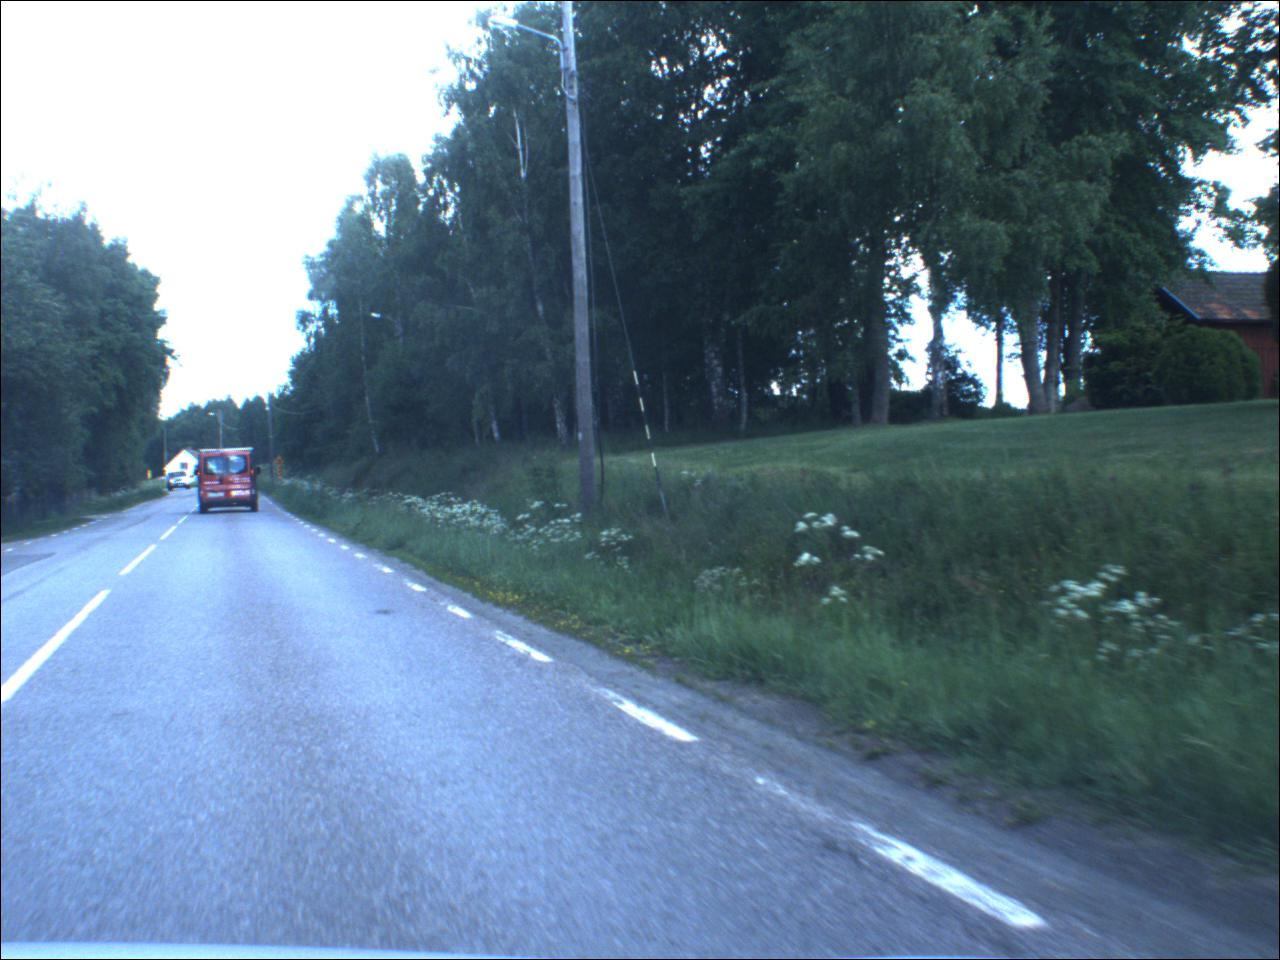WARNING_RAIL_CROSSING: (276, 454, 289, 468)
